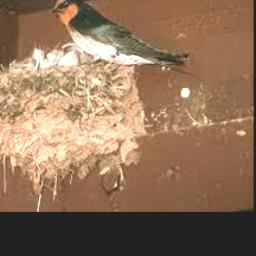Swallow: (52, 0, 188, 68)
